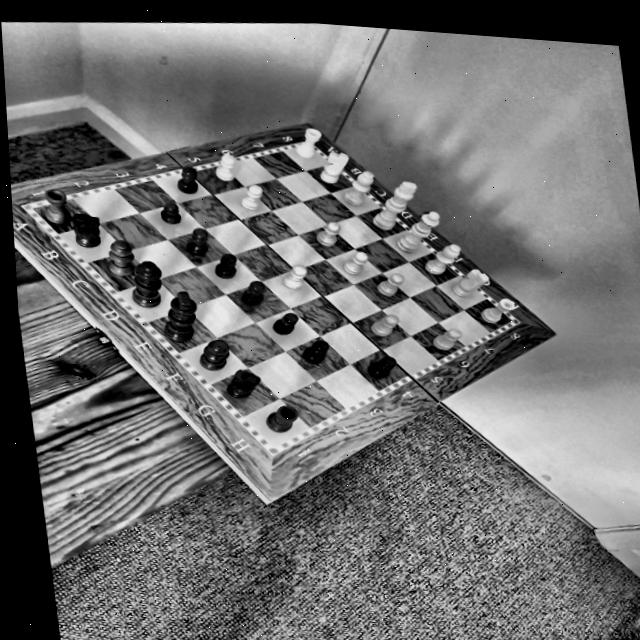black-bishop: (195, 331, 233, 377), (102, 235, 134, 279)
black-king: (157, 289, 204, 348)
black-knight: (221, 361, 264, 407), (67, 209, 105, 254)
black-pawn: (235, 268, 269, 312), (294, 337, 333, 370), (183, 222, 213, 260), (173, 158, 201, 198), (213, 246, 241, 284), (268, 309, 300, 341), (153, 197, 185, 229), (364, 354, 400, 381)
black-queen: (125, 258, 169, 313)
black-rook: (265, 399, 300, 440), (39, 185, 74, 224)
white-bishop: (417, 236, 469, 280), (335, 167, 380, 211)
white-king: (367, 173, 427, 237)
white-knight: (448, 266, 493, 302), (314, 145, 351, 186)
white-pawn: (366, 309, 404, 342), (428, 324, 466, 356), (371, 269, 407, 300), (279, 260, 311, 294), (340, 248, 372, 280), (310, 221, 346, 249), (211, 151, 241, 184), (237, 181, 261, 212)
white-queen: (393, 205, 444, 257)
white-rook: (287, 117, 328, 160), (474, 292, 518, 332)
